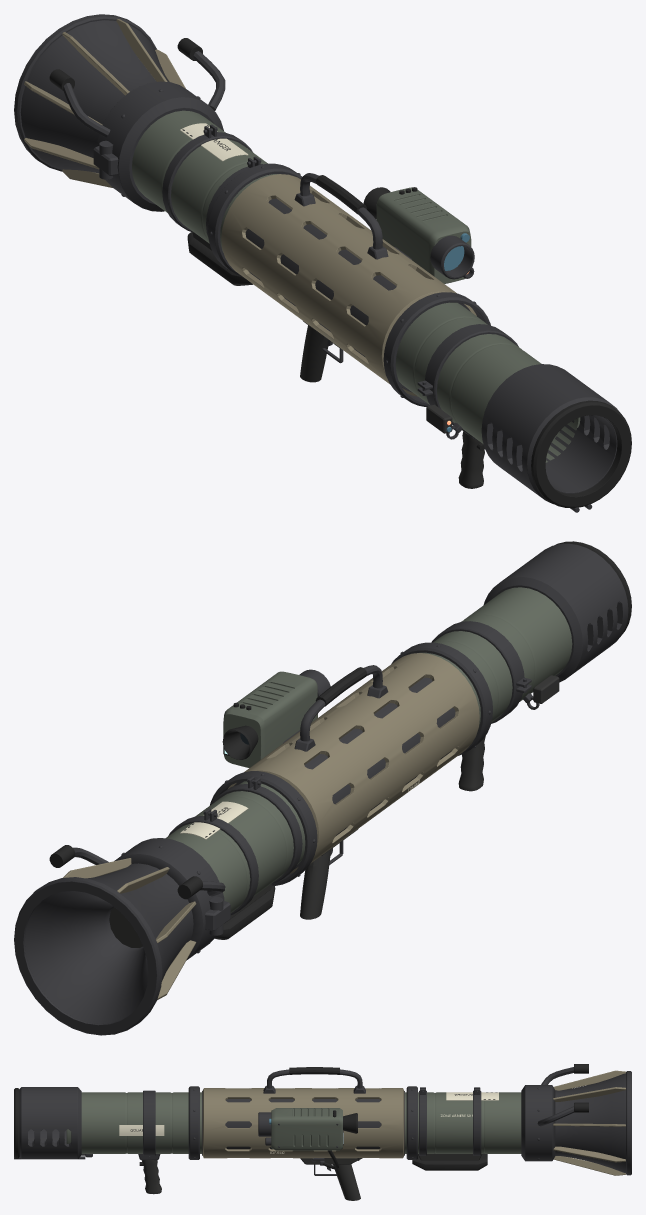
The model's file is goliath.glb.
The picture shows the model from 3 angles, top to bottom: view 1: azimuth 30°, elevation 25°; view 2: azimuth 150°, elevation 25°; view 3: azimuth 270°, elevation 25°; orthographic projection. The views are drawn at different scales.
Visible parts, largest first — view 1: Body; view 2: Body; view 3: Body.
Part boxes in pixels (x1,y1,x2,y2): Body: (14, 14, 631, 512); Body: (14, 541, 631, 1035); Body: (14, 1064, 631, 1200).
Size of the model in its own units: 0.3296 by 0.3841 by 1.64.
